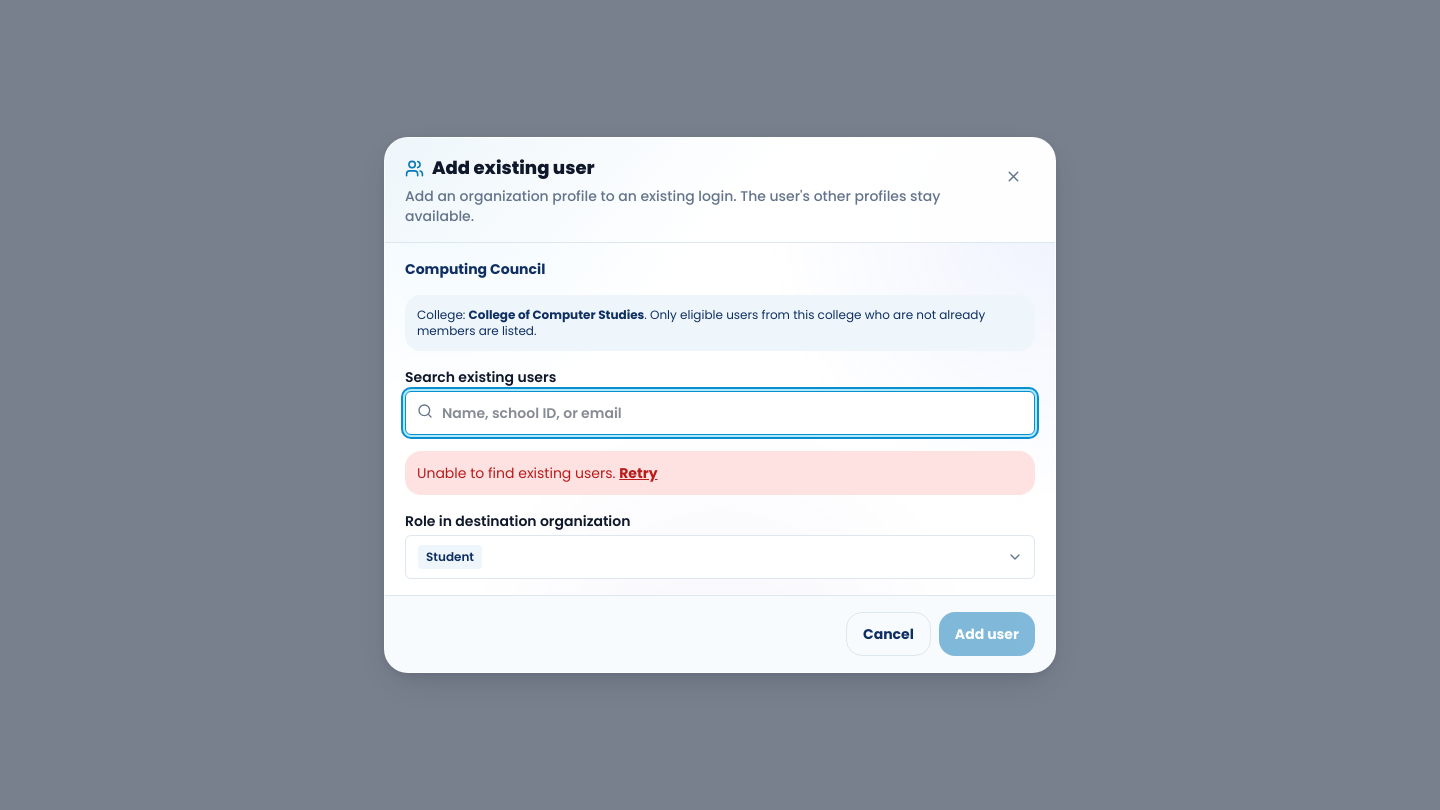
Scenario: AddExistingUserModal › shows an empty state and allows retrying a failed candidate search
This screenshot has width=1440, height=810.
Expected: the message shows "Unable to find existing users.", [417, 463, 616, 483]
Click the button "Retry": (638, 473) [619, 463, 658, 483]
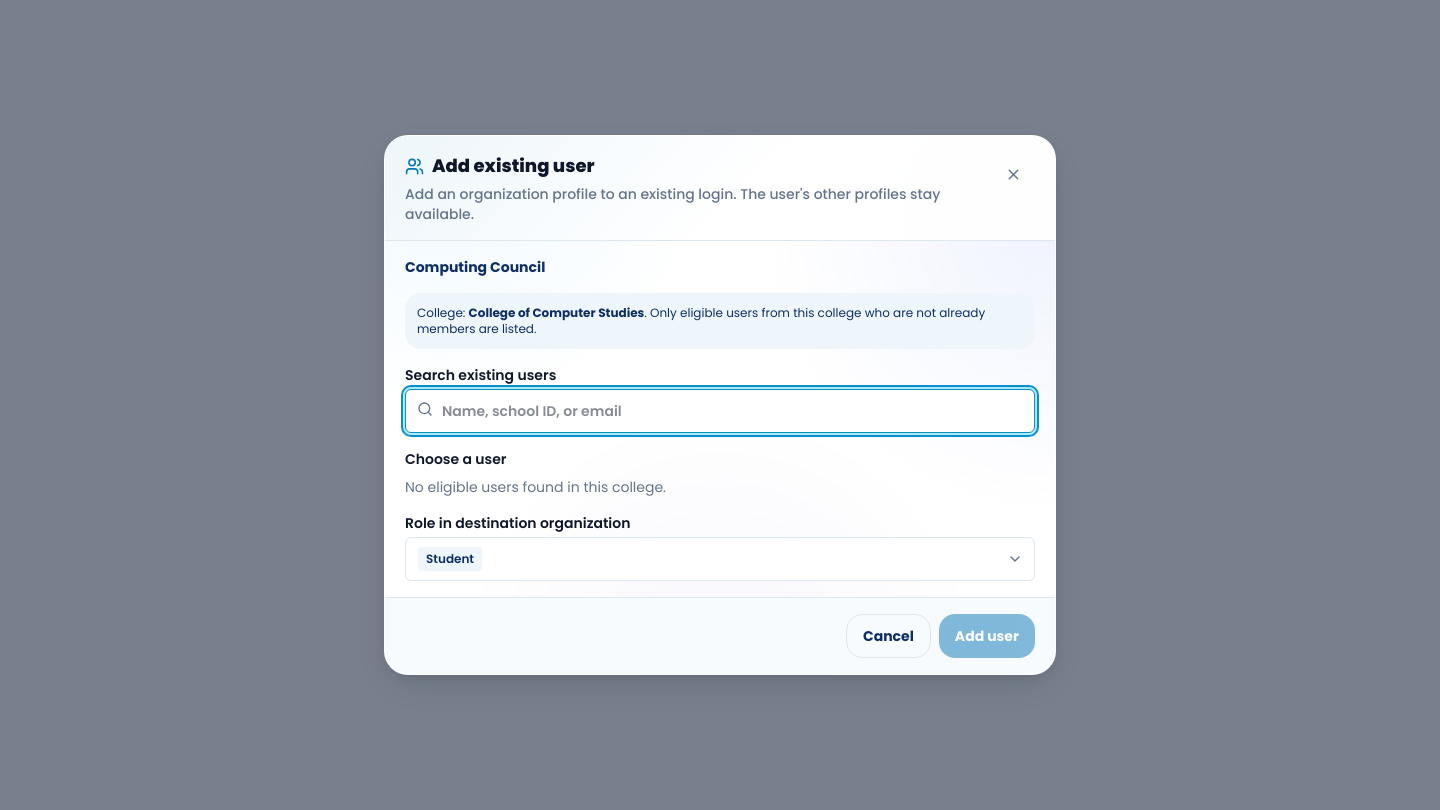
Expected: the button "Add user" is disabled, [939, 614, 1035, 658]
Result: the text "No eligible users found in this college." is shown at [405, 477, 666, 497]
